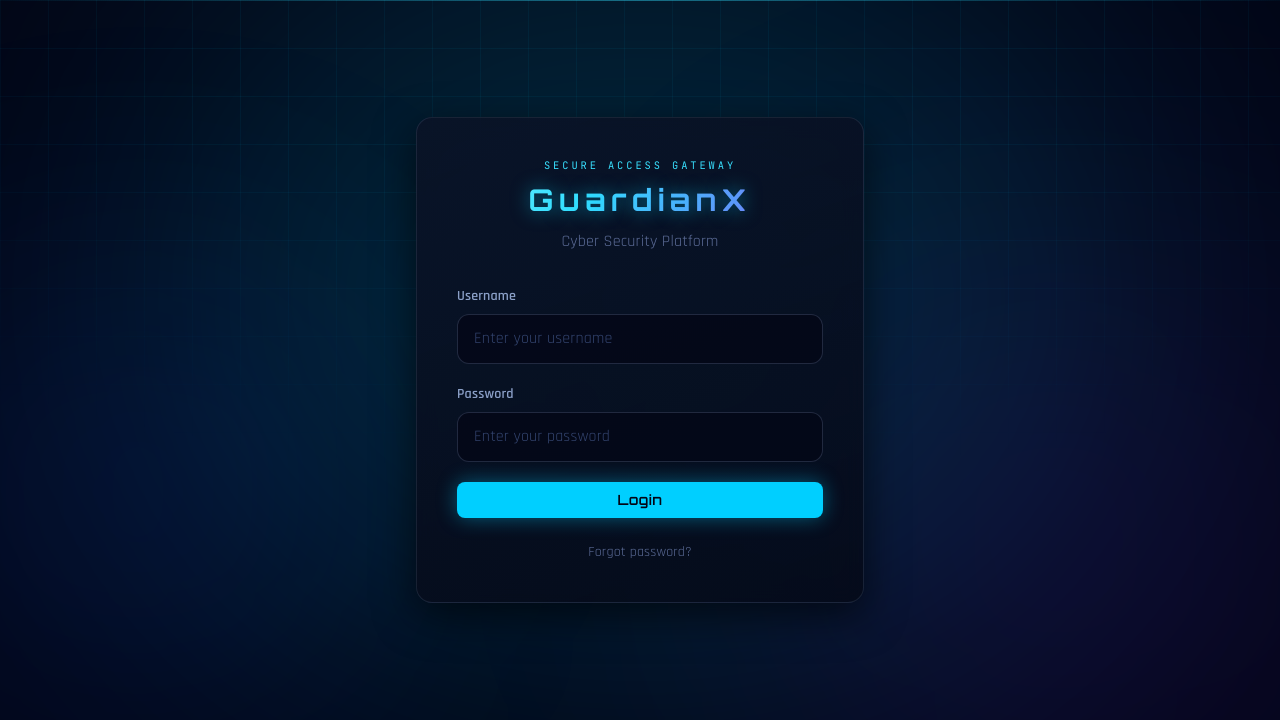
Test case: Login › shows an error on invalid credentials
The width and height of the screenshot is (1280, 720).
Type "admin" into the field labelled "Username".
click(640, 339); type("admin")  # box [457,314,823,364]
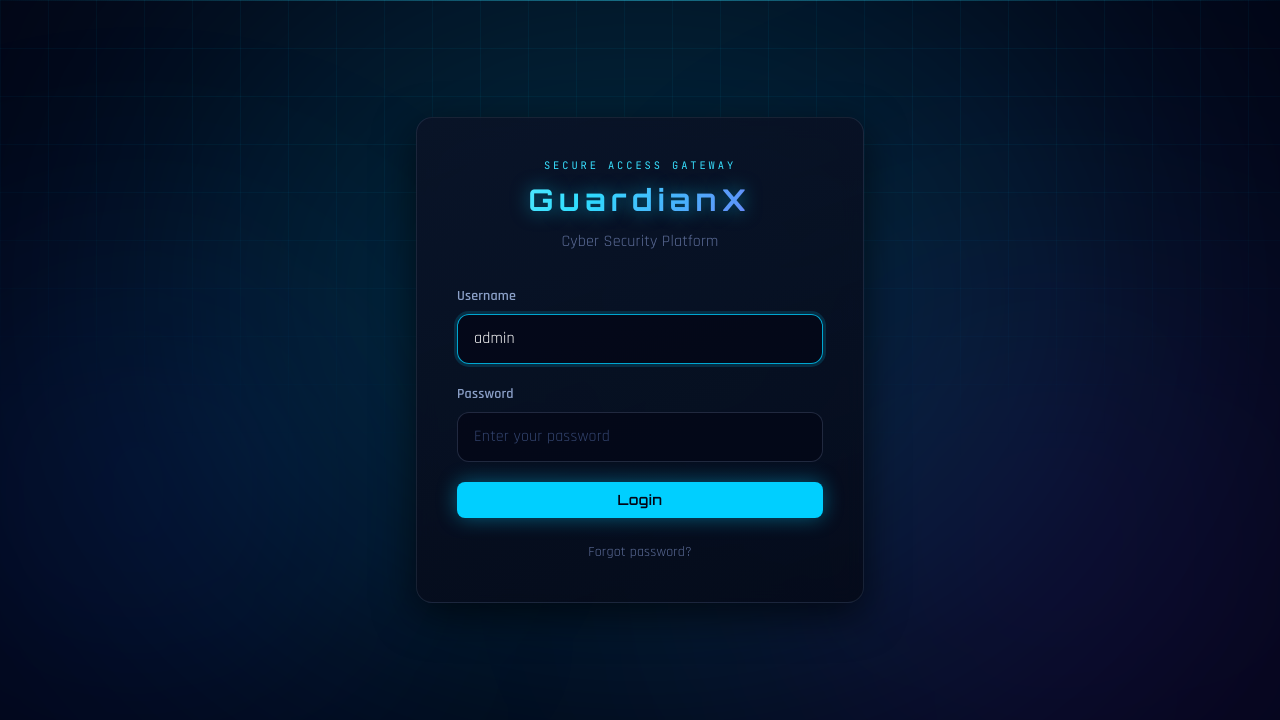
Type "WrongPassword123!" into the password field labelled "Password".
click(640, 437); type("WrongPassword123!")  # box [457,412,823,462]
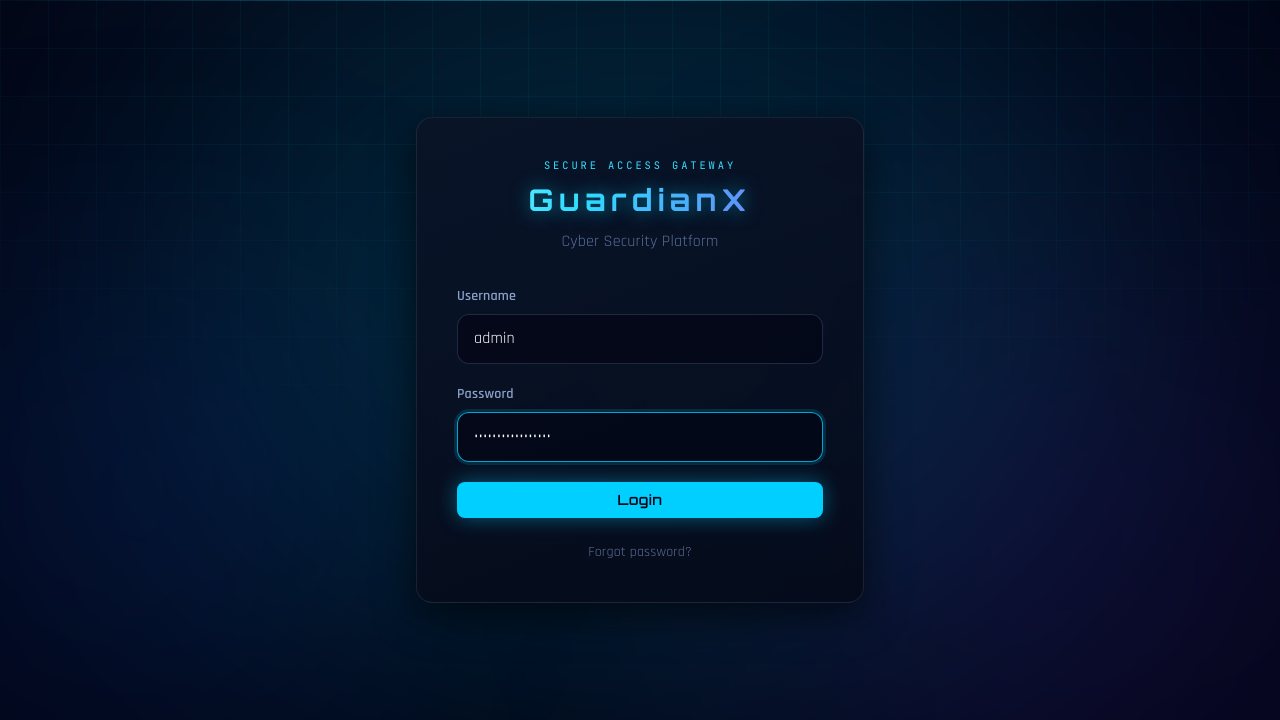
Click the button "Login".
click(640, 500)  # box [457,482,823,518]
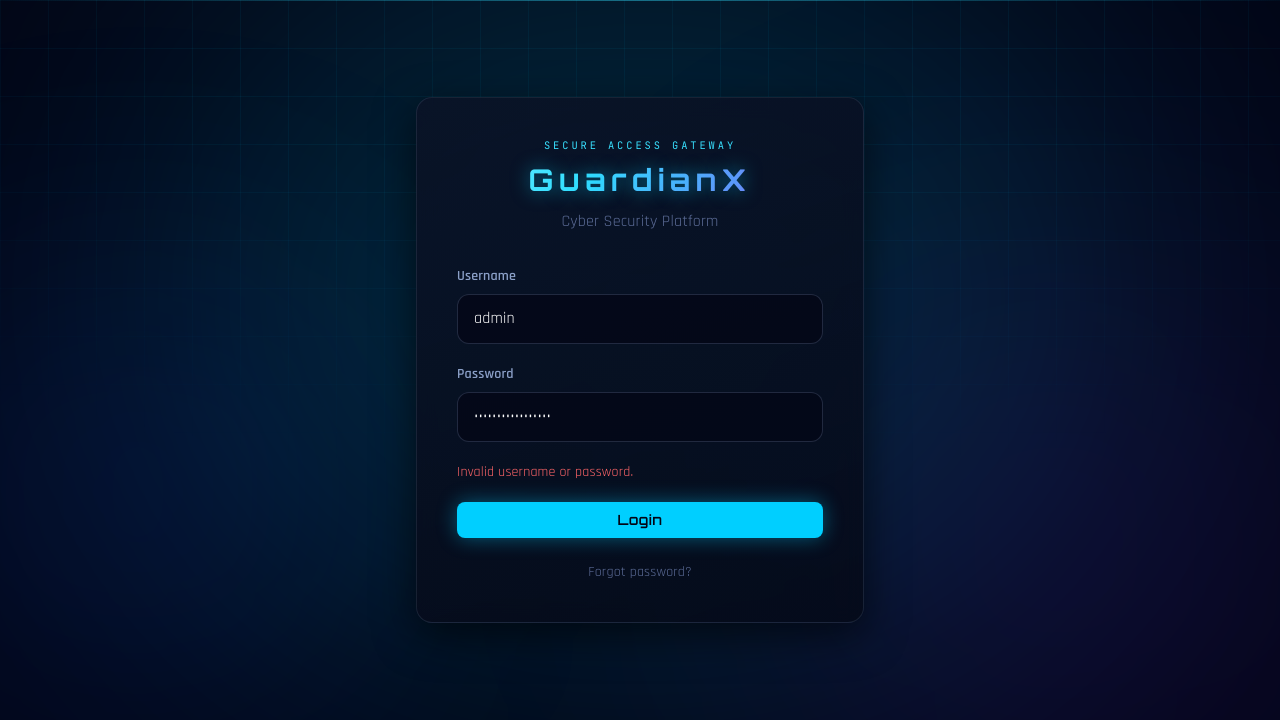
Result: the text "Invalid username or password." is shown at [457,463,633,481]
